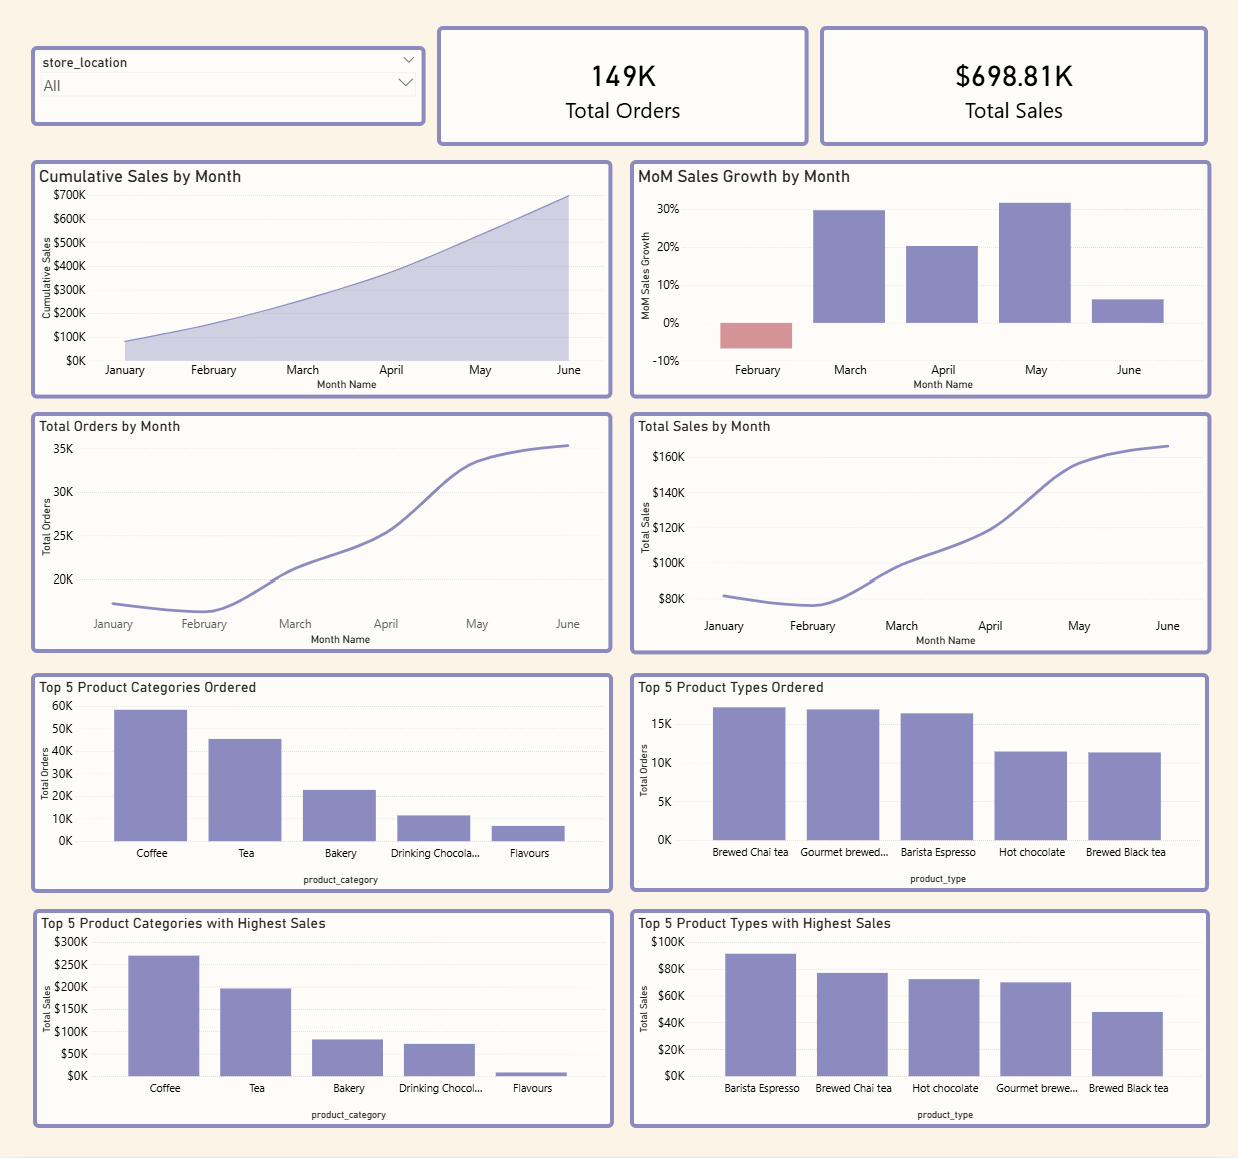

The page's visual inventory and layout, read from the dashboard file:
{"tool":"powerbi","page":{"name":"Sales & Orders Monthly Overview","canvas":[3100,2900],"ordinal":0},"visuals":[{"type":"lineChart","title":"Total Sales by Month","fields":{"Category":["Date.Month Name"],"Y":["Measure Table.Total Sales"]},"box":[1575,1038.3,1453.3,603.3],"z":0},{"type":"lineChart","title":"Total Orders by Month","fields":{"Category":["Date.Month Name"],"Y":["Measure Table.Total Orders"]},"box":[81.7,1038.3,1453.3,600],"z":1000},{"type":"card","fields":{"Values":["Measure Table.Total Sales"]},"box":[2051.7,75,970,300],"z":2000},{"type":"card","fields":{"Values":["Measure Table.Total Orders"]},"box":[1095,75,926.7,300],"z":3000},{"type":"columnChart","title":"Top 5 Product Categories Ordered","fields":{"Category":["Coffee Shop Sales.product_category"],"Y":["Measure Table.Total Orders"]},"box":[80,1687.5,1455,550],"z":4000},{"type":"columnChart","title":"Top 5 Product Types Ordered","fields":{"Y":["Measure Table.Total Orders"],"Category":["Coffee Shop Sales.product_type"]},"box":[1575,1690,1447.5,547.5],"z":6000},{"type":"slicer","fields":{"Values":["Coffee Shop Sales.store_location"]},"box":[80,126.7,986.7,200],"z":7000},{"type":"columnChart","title":"Top 5 Product Categories with Highest Sales","fields":{"Category":["Coffee Shop Sales.product_category"],"Y":["Measure Table.Total Sales"]},"box":[82.5,2277.5,1452.5,547.5],"z":8000},{"type":"columnChart","title":"Top 5 Product Types with Highest Sales","fields":{"Category":["Coffee Shop Sales.product_type"],"Y":["Measure Table.Total Sales"]},"box":[1575,2277.5,1450,547.5],"z":9000},{"type":"areaChart","title":"Cumulative Sales by Month","fields":{"Category":["Date.Month Name"],"Y":["Measure Table.Cumulative Sales"]},"box":[81.7,408.3,1453.3,596.7],"z":11000},{"type":"clusteredColumnChart","title":"MoM Sales Growth by Month","fields":{"Category":["Date.Month Name"],"Y":["Measure Table.MoM Sales Growth"]},"box":[1575,408.3,1453.3,596.7],"z":12000}]}

Visuals, with their boxes in screenshot pixels (x1, y1, x2, y2), scaled from the page's 3100x2900 canvas onto the 1238x1158 screenshot:
"Total Sales by Month" lineChart: crop(629, 415, 1209, 656)
"Total Orders by Month" lineChart: crop(33, 415, 613, 654)
card - Measure Table.Total Sales: crop(819, 30, 1207, 150)
card - Measure Table.Total Orders: crop(437, 30, 807, 150)
"Top 5 Product Categories Ordered" columnChart: crop(32, 674, 613, 893)
"Top 5 Product Types Ordered" columnChart: crop(629, 675, 1207, 893)
slicer - Coffee Shop Sales.store_location: crop(32, 51, 426, 130)
"Top 5 Product Categories with Highest Sales" columnChart: crop(33, 909, 613, 1128)
"Top 5 Product Types with Highest Sales" columnChart: crop(629, 909, 1208, 1128)
"Cumulative Sales by Month" areaChart: crop(33, 163, 613, 401)
"MoM Sales Growth by Month" clusteredColumnChart: crop(629, 163, 1209, 401)
